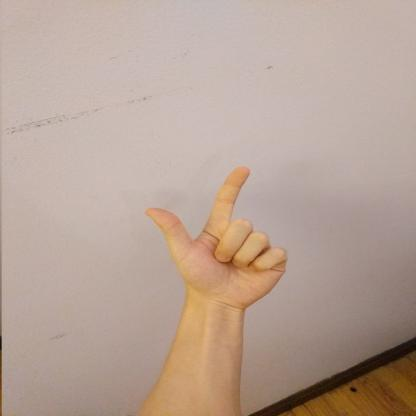L: (140, 162, 292, 314)
